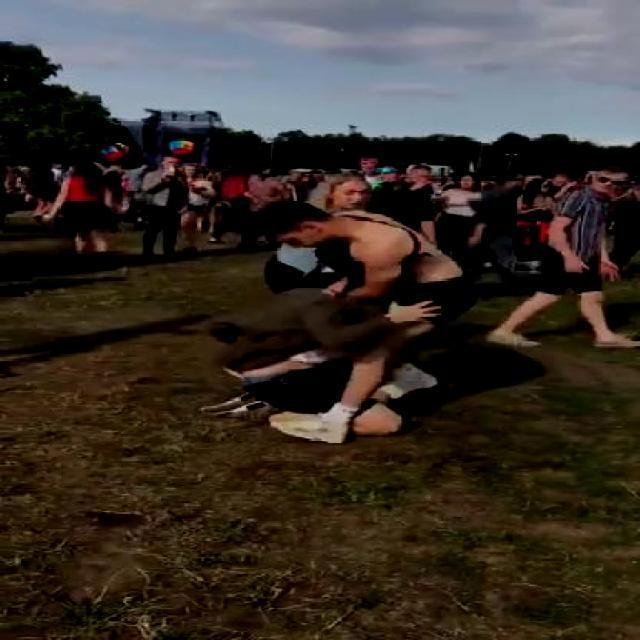fight: (208, 198, 474, 440)
